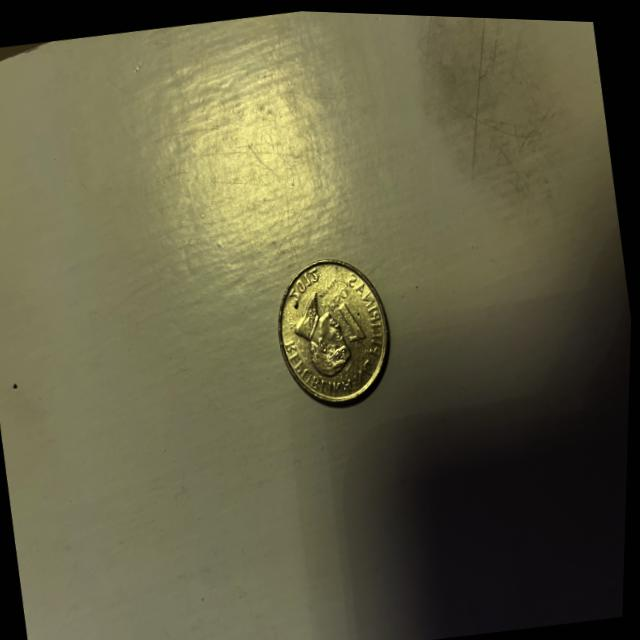1_Old_Front: (319, 278, 375, 351)
